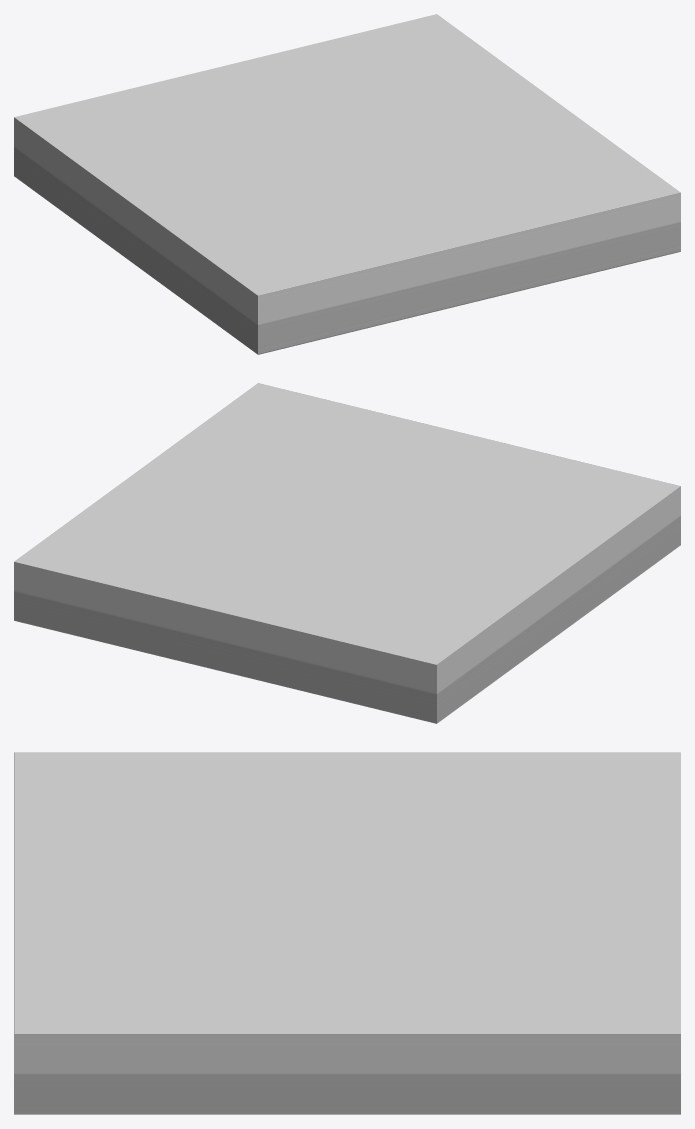
The model's file is steelPlatform1.fbx.
The picture shows the model from 3 angles, top to bottom: view 1: azimuth 30°, elevation 25°; view 2: azimuth 150°, elevation 25°; view 3: azimuth 270°, elevation 25°; orthographic projection. The views are drawn at different scales.
Visible parts, largest first — view 1: SteelPlatform1; view 2: SteelPlatform1; view 3: SteelPlatform1.
Boxes of the visible parts, left/top/right/bottom form: SteelPlatform1: left=14, top=14, right=680, bottom=354; SteelPlatform1: left=14, top=383, right=680, bottom=723; SteelPlatform1: left=14, top=752, right=680, bottom=1114.
Bounding box in the file's own units: 150 × 20 × 150.
1 material, 1 textured.
